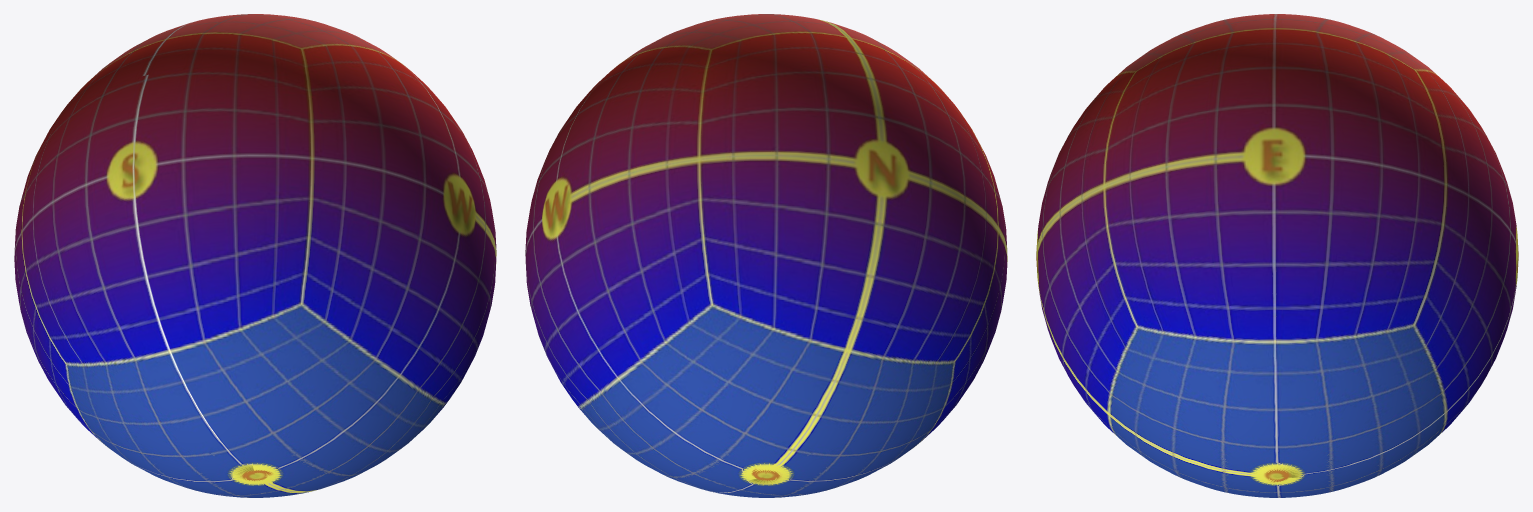
Rendered from skybox.glb.
3 views of the same model, side by side, from view 1: azimuth 30°, elevation 25°; view 2: azimuth 150°, elevation 25°; view 3: azimuth 270°, elevation 25° (orthographic).
Parts seen in each view (by area): view 1: Sphere; view 2: Sphere; view 3: Sphere.
Part boxes in pixels (x1=…): Sphere: x1=14, y1=14, x2=496, y2=497; Sphere: x1=525, y1=14, x2=1007, y2=497; Sphere: x1=1036, y1=14, x2=1518, y2=497.
Size of the model in its own units: 28.79 by 29.04 by 28.79.
1 material, 1 textured.
